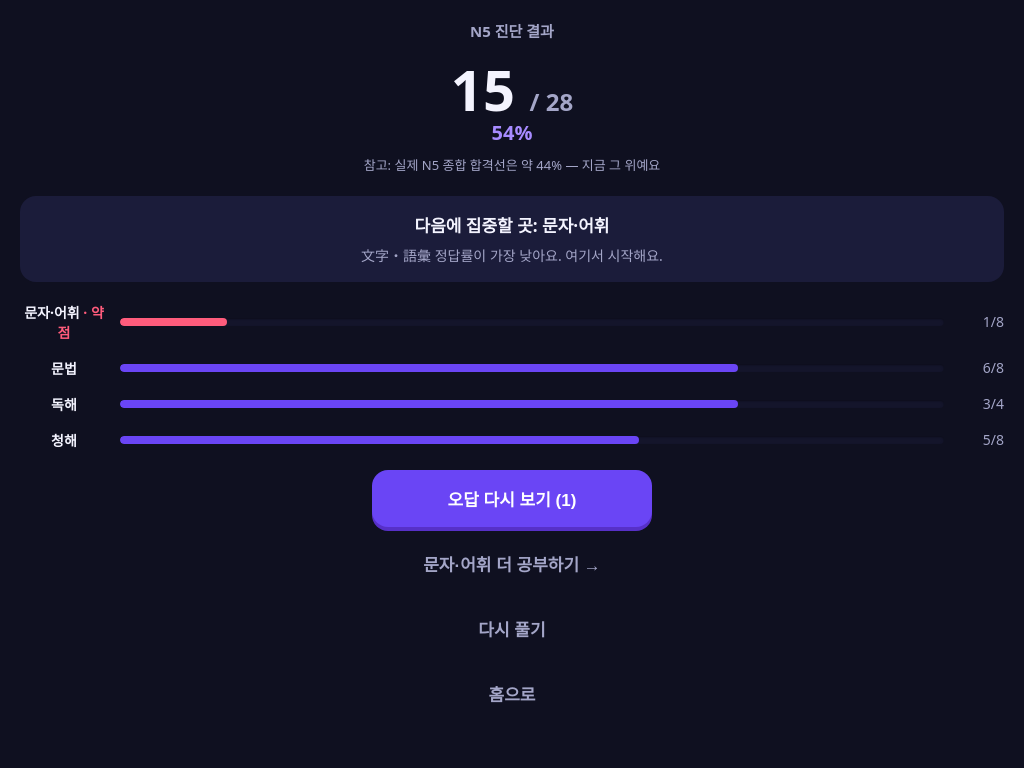
JlptReport › offers review only when there are wrong answers, and reveals the correct one
The width and height of the screenshot is (1024, 768).
Click the button "오답 다시 보기 (1)". click: (512, 498)
box: x1=372 y1=470 x2=652 y2=526
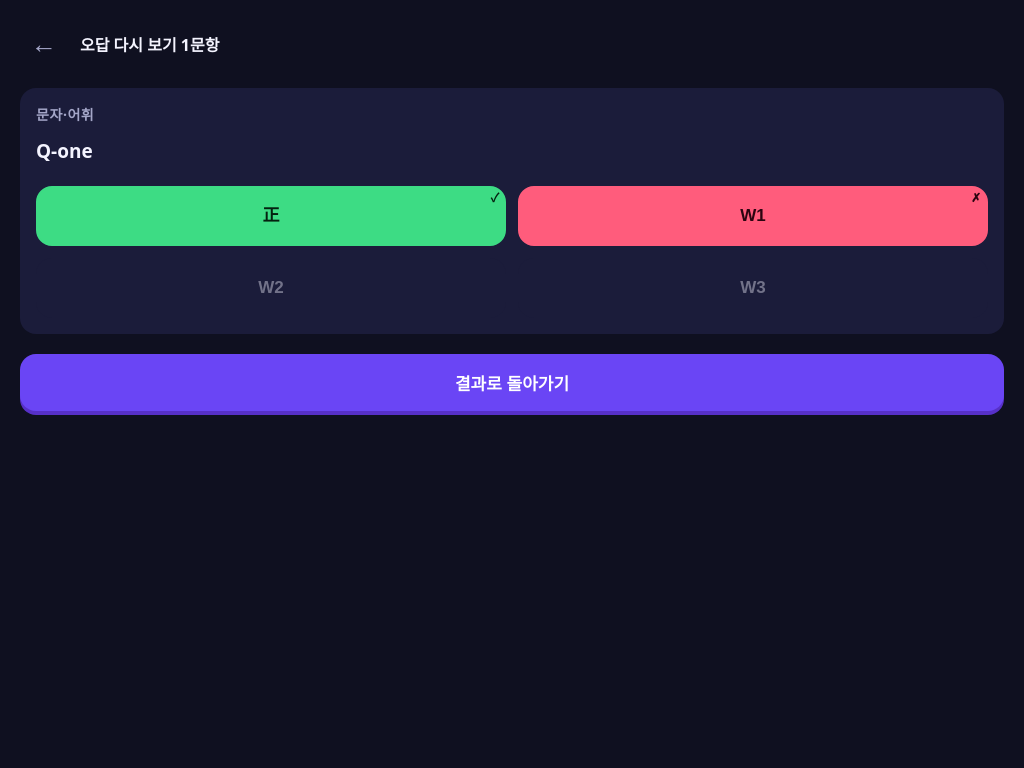
Result: the text "Q-one" is shown at x1=36 y1=138 x2=93 y2=164
Result: the text "✓" is shown at x1=491 y1=191 x2=499 y2=207
